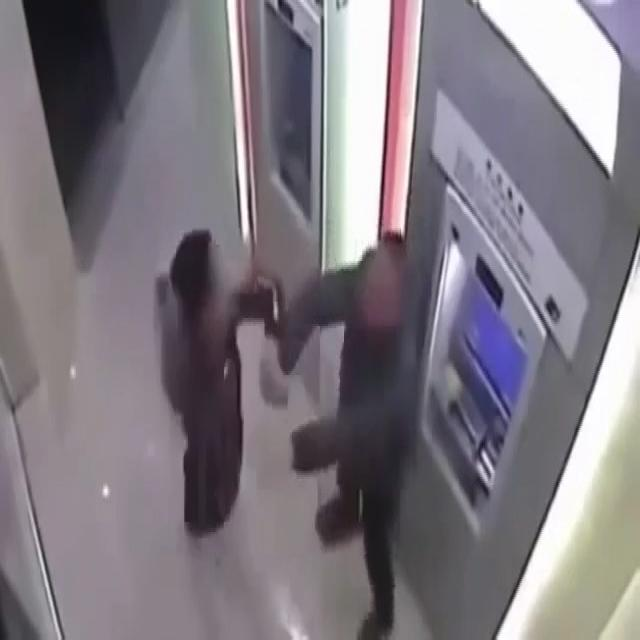fight: (95, 131, 428, 601)
